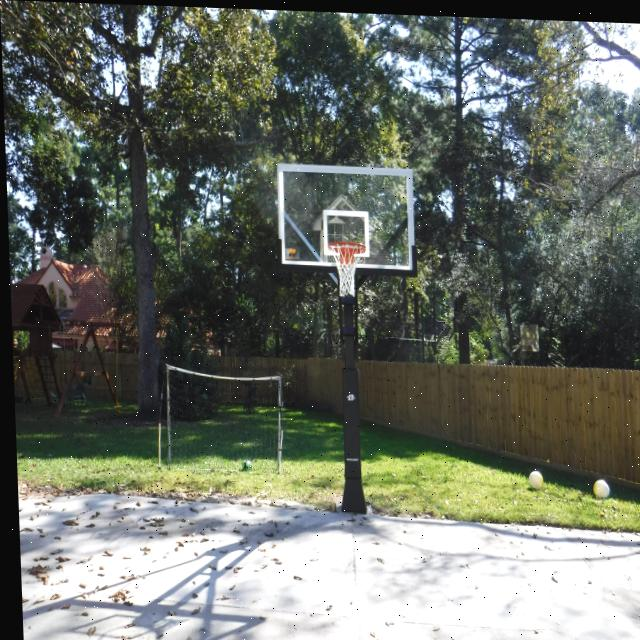basketball: (593, 480, 610, 500), (528, 470, 544, 489), (242, 459, 252, 472)
hoop: (328, 241, 368, 298)
